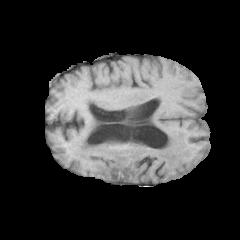glioma: (68, 103, 185, 180)
